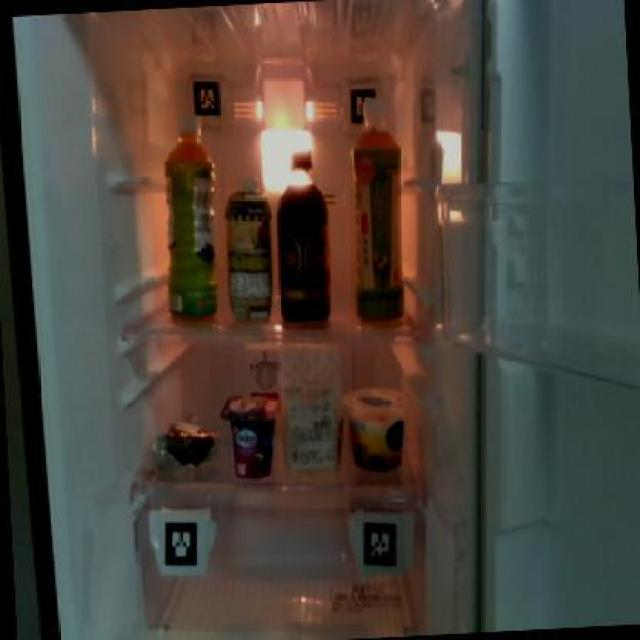coffee: (268, 143, 334, 323)
pudding: (340, 382, 411, 472)
rice_ball: (147, 412, 220, 474)
sandwich: (277, 338, 345, 477)
smoothie: (221, 174, 276, 326)
tea_a: (156, 115, 222, 323)
tea_i: (345, 119, 413, 328)
yogurt: (216, 386, 282, 480)
